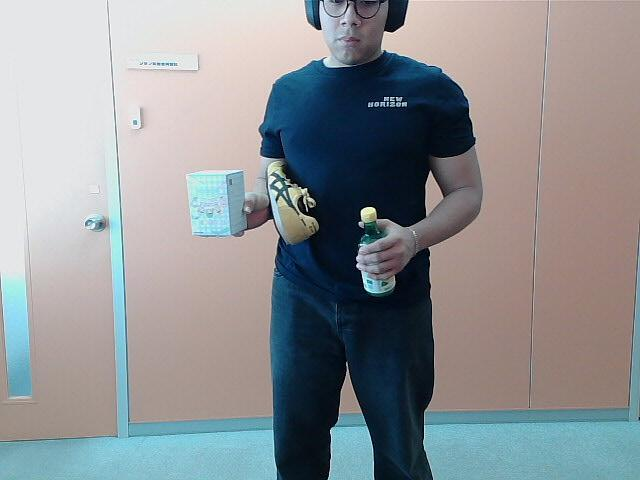Blind_box: (184, 168, 248, 240)
Lemon_sapporo: (352, 205, 394, 295)
Shoes: (266, 158, 316, 246)
